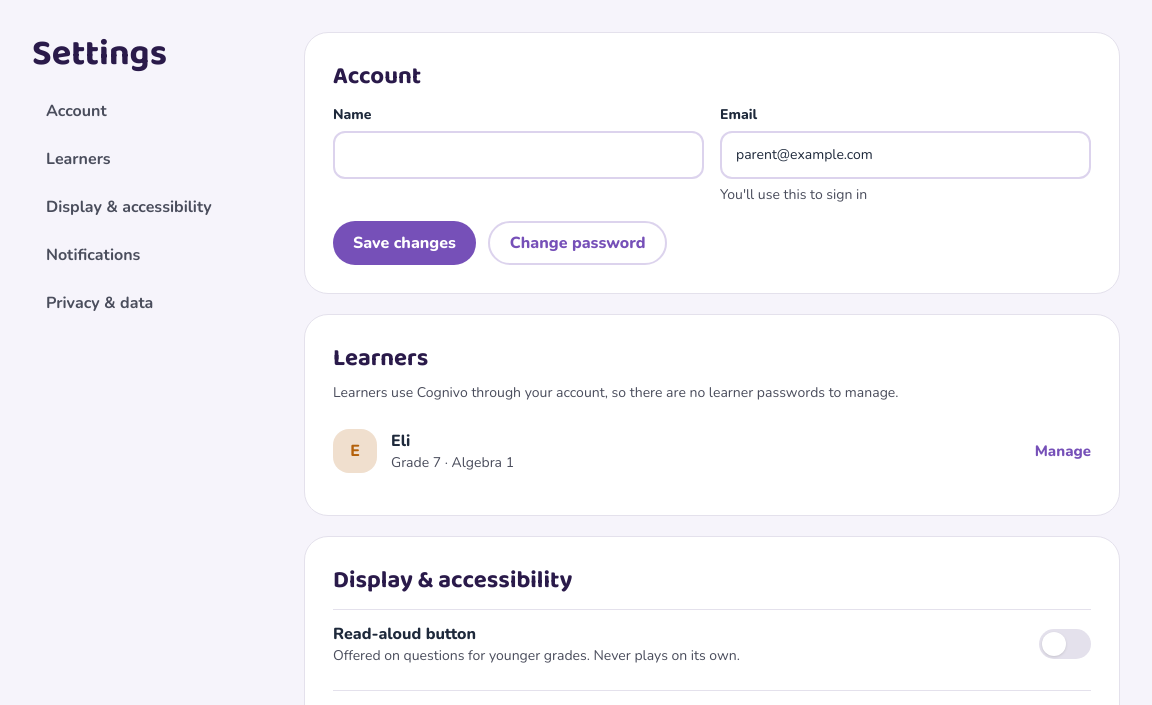
Scenario: GuardianSettingsPage › changes the password and shows a confirmation
Expected: the field showing "parent@example.com" is shown, [720, 131, 1091, 179]
Click the button "Change password".
click(578, 243)  # box [488, 221, 667, 265]
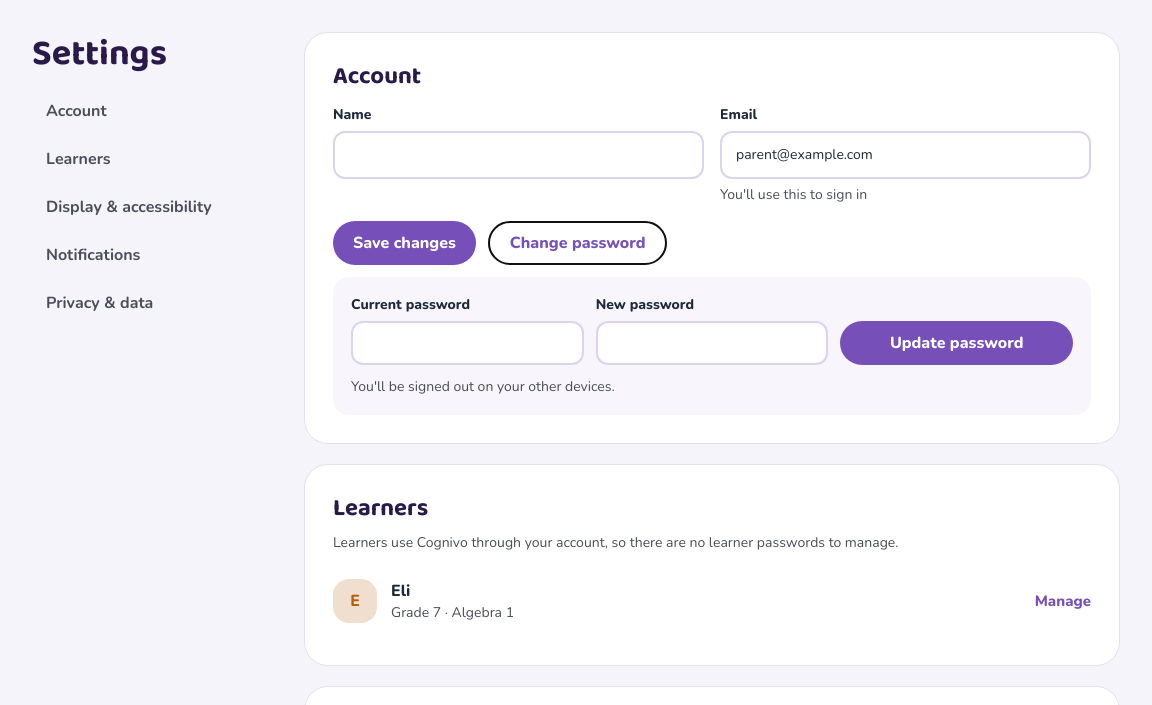
Type "old password here" into the password field labelled "Current password".
click(467, 343); type("old password here")  # box [351, 321, 584, 365]
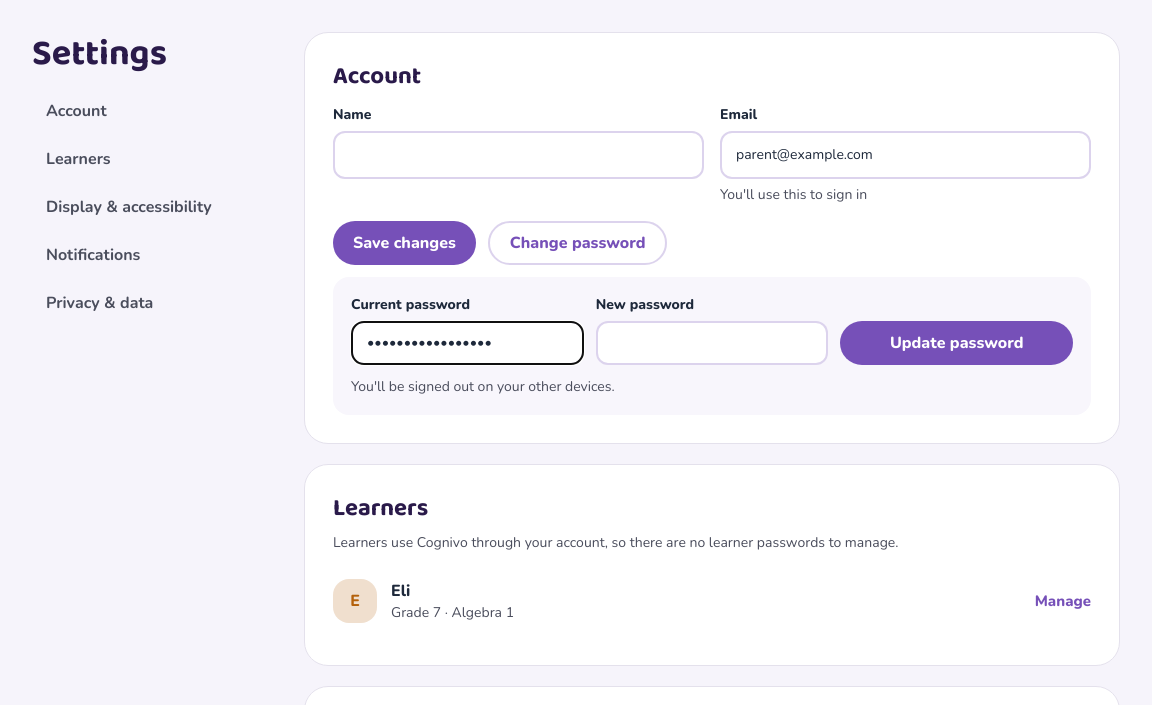
Type "a new password here" into the password field labelled "New password".
click(712, 343); type("a new password here")  # box [596, 321, 828, 365]
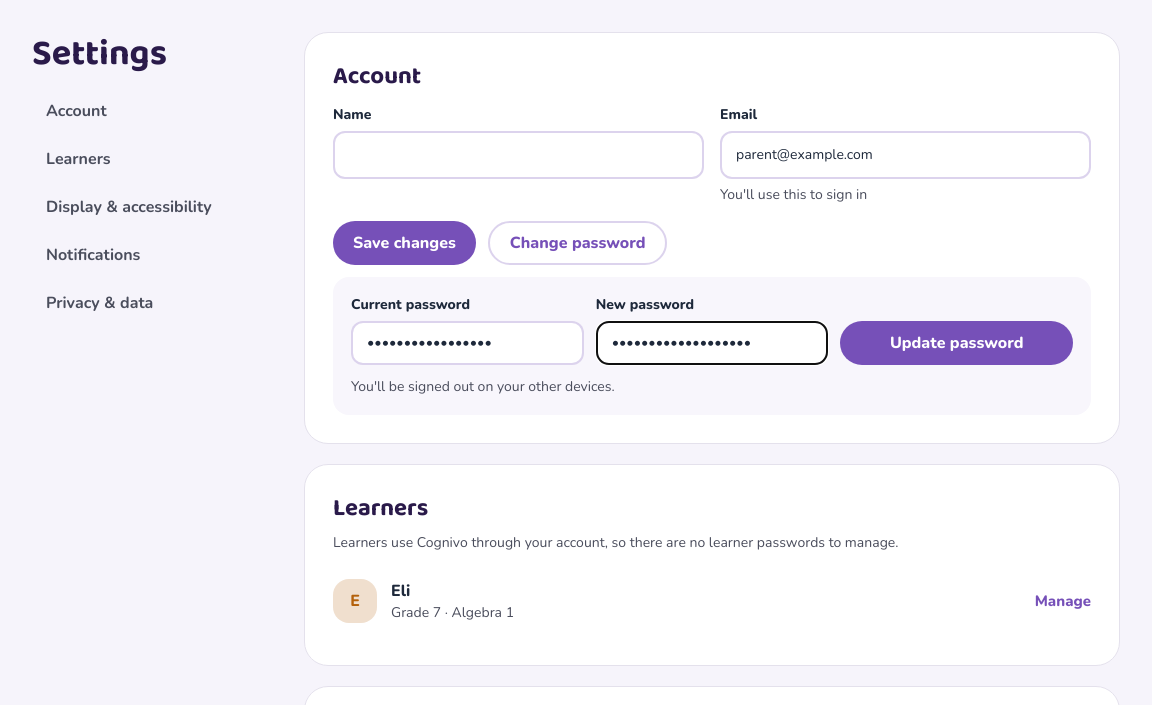
Click the button "Update password".
click(957, 343)  # box [840, 321, 1073, 365]
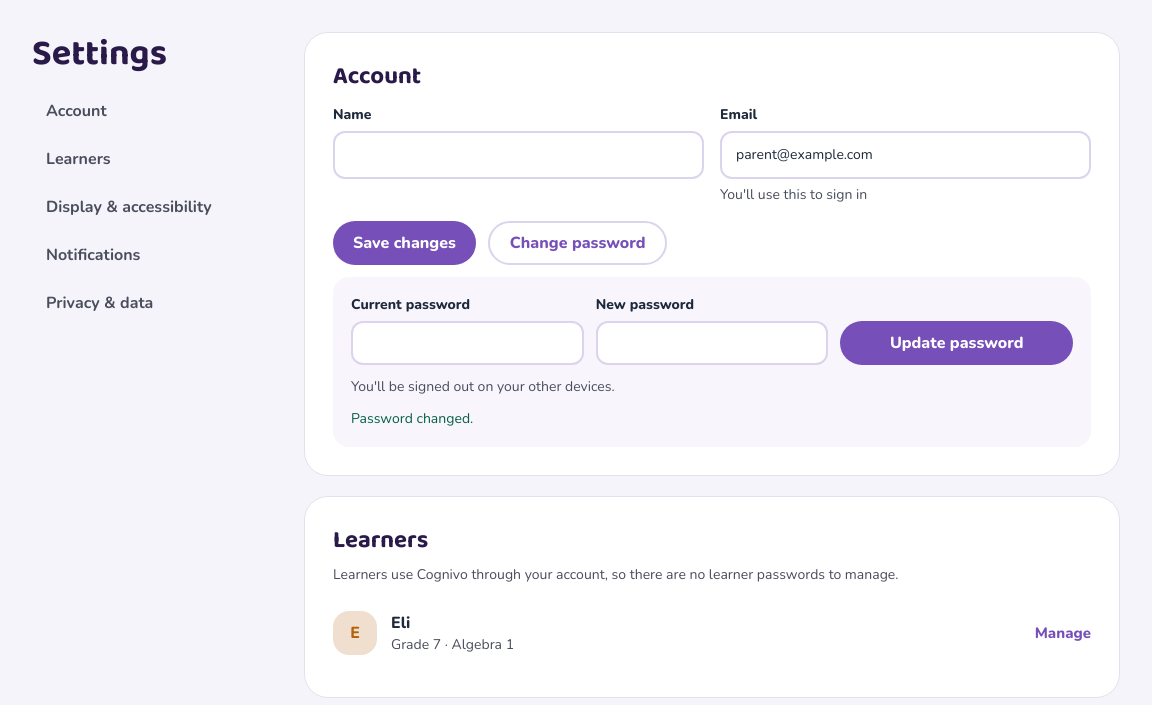
Now the text "Password changed." is shown, box [351, 409, 473, 428]
